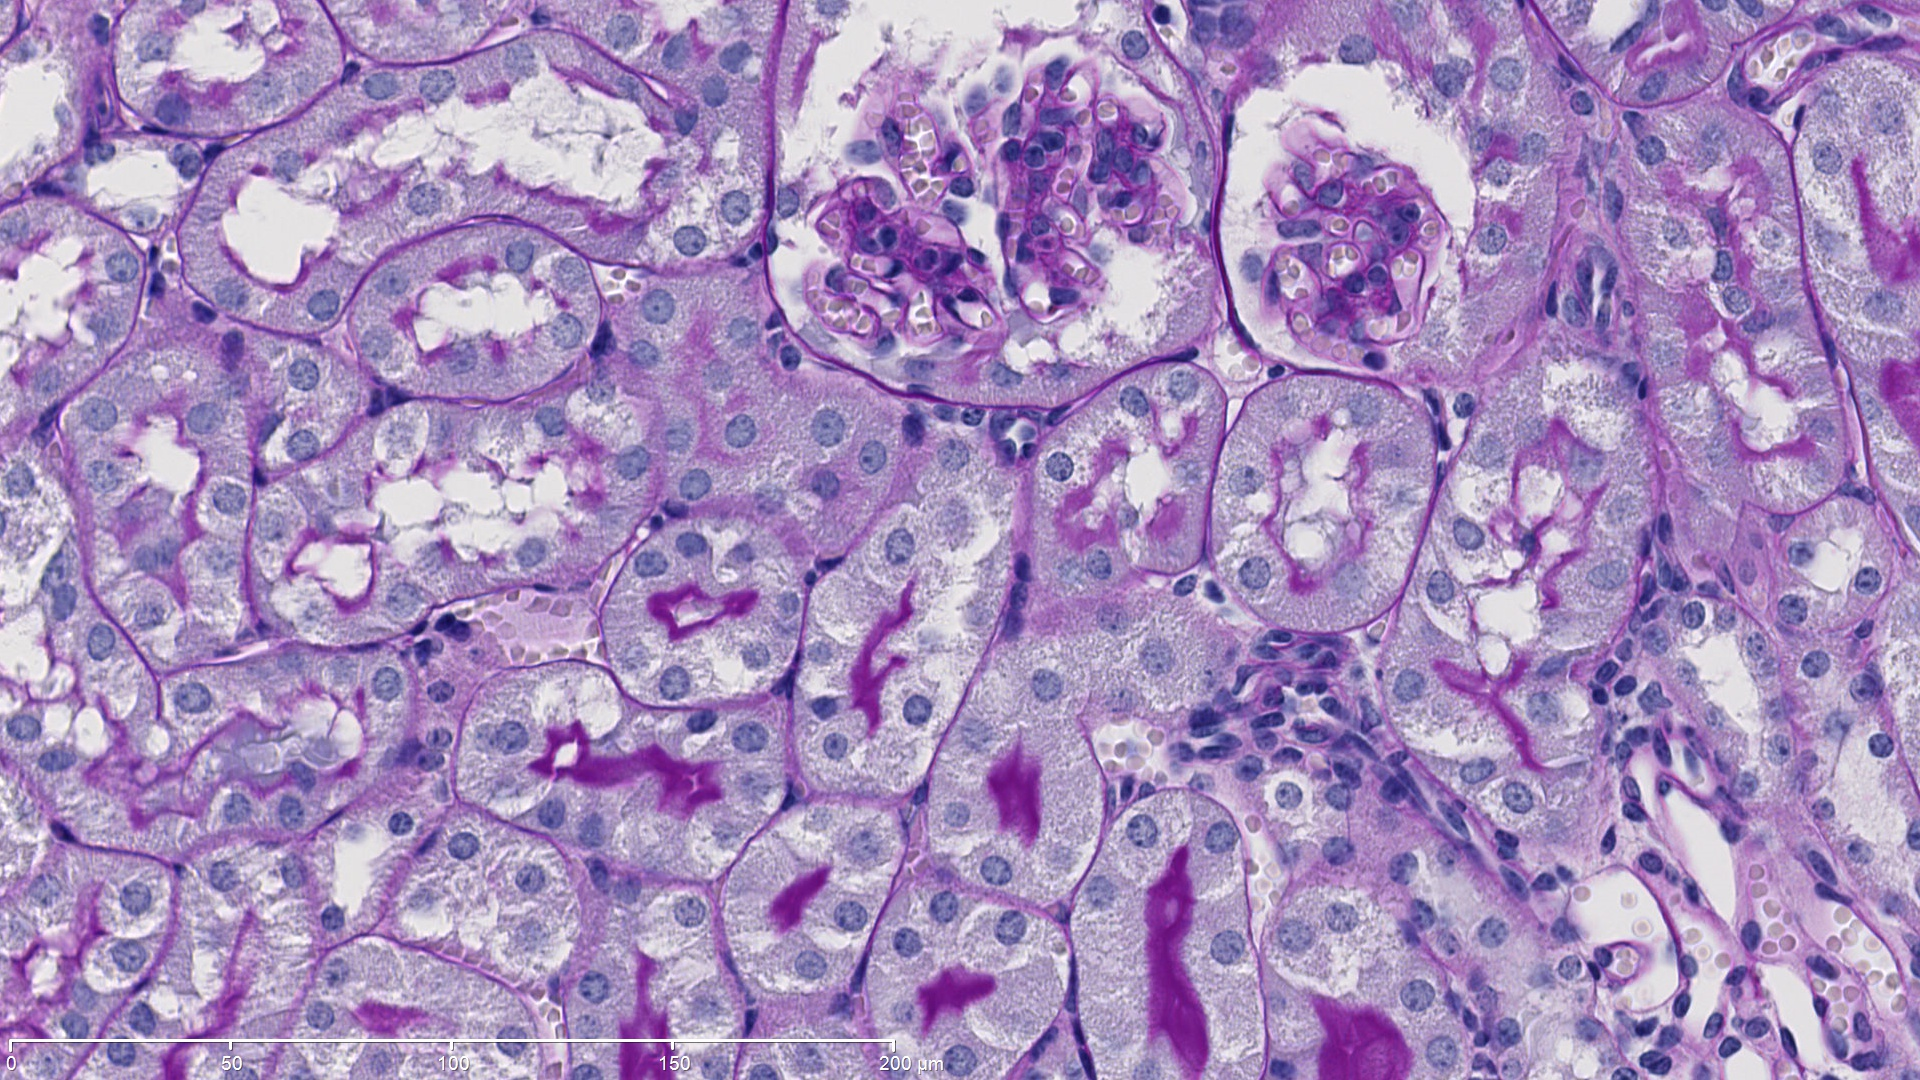Glomeruli: (1251, 105, 1464, 353), (1000, 53, 1179, 323), (800, 177, 996, 356)
